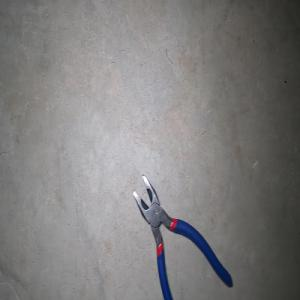Pliers: (132, 174, 232, 300)
